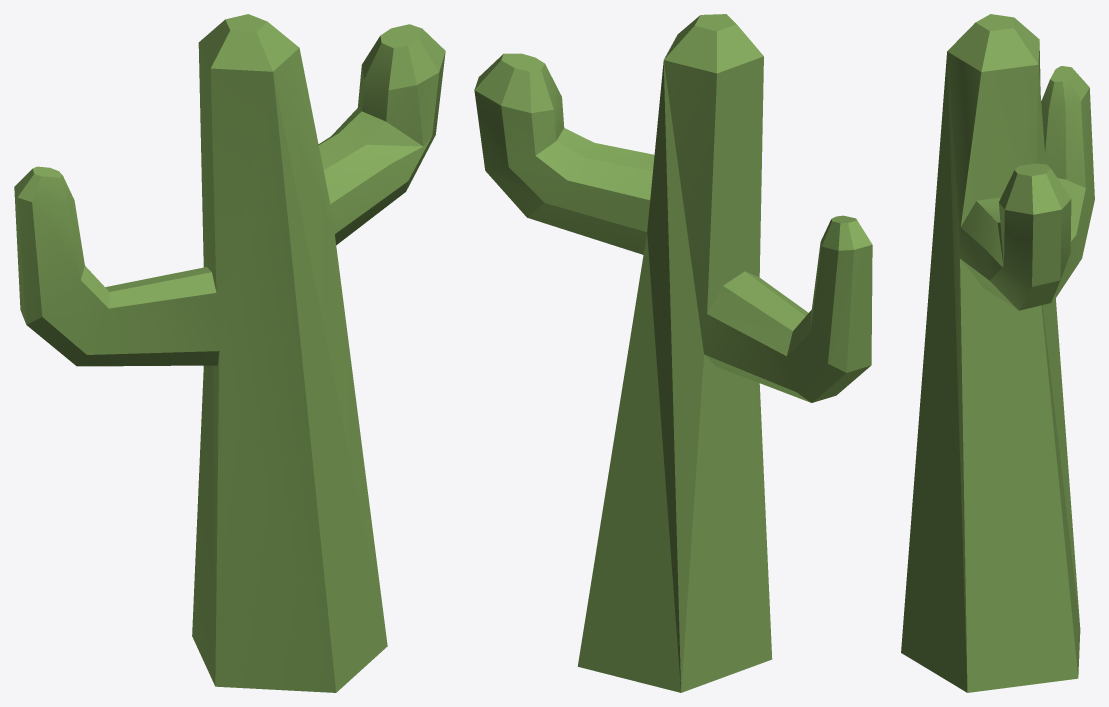
The model's file is Cactus_03.fbx.
3 views of the same model, side by side, from view 1: azimuth 30°, elevation 25°; view 2: azimuth 150°, elevation 25°; view 3: azimuth 270°, elevation 25° (orthographic). The views are drawn at different scales.
Visible parts, largest first — view 1: Cactus_03; view 2: Cactus_03; view 3: Cactus_03.
Boxes of the visible parts, bbox=[...] form: Cactus_03: bbox=[14, 14, 445, 692]; Cactus_03: bbox=[474, 14, 872, 692]; Cactus_03: bbox=[901, 14, 1094, 692].
Size of the model in its own units: 45.64 by 67.89 by 19.52.
